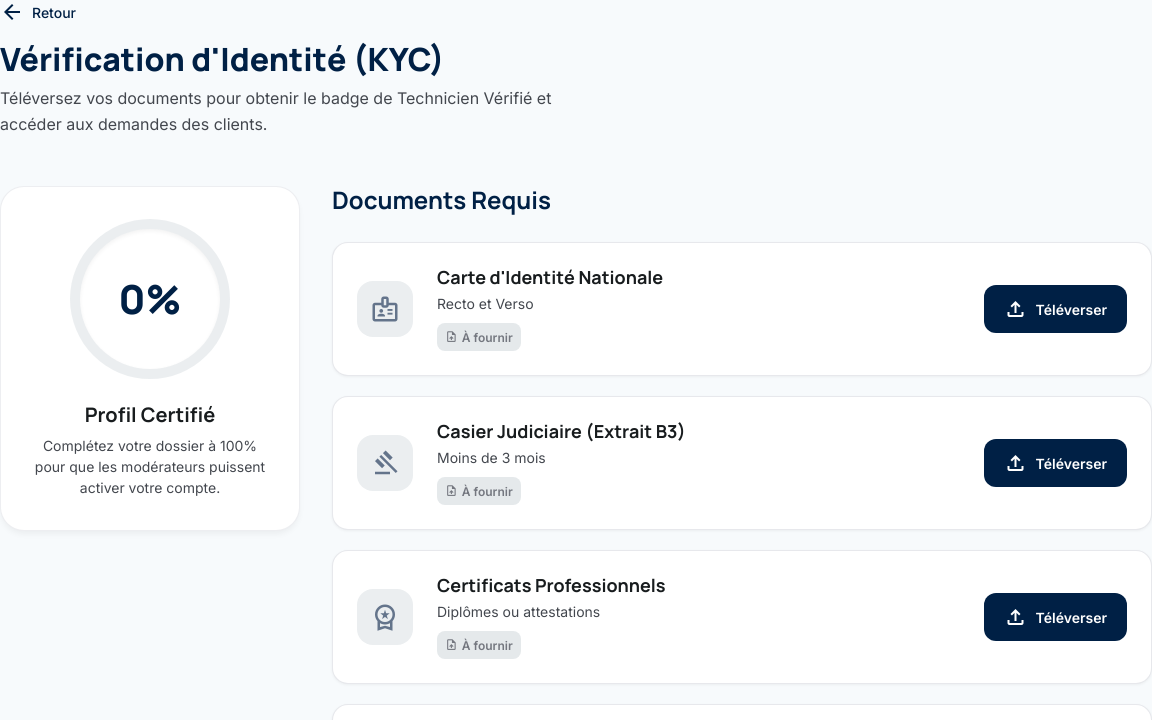
Test: KYCStatus › signale l'échec du dépôt et conserve le statut « À fournir »
Click the button "Téléverser" in the row of "Carte d'Identité Nationale".
click(1055, 309)  # box [984,285,1127,333]
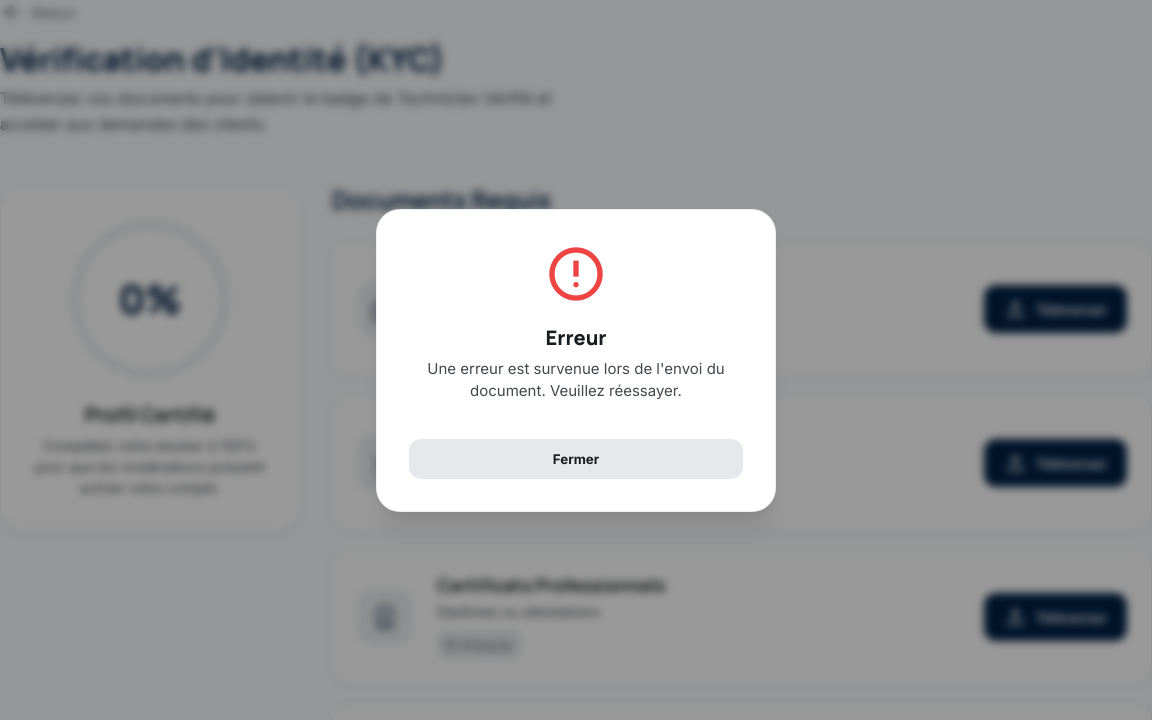
Now the text "erreur est survenue lors de l'envoi" is shown, box [427,358,725,400]
